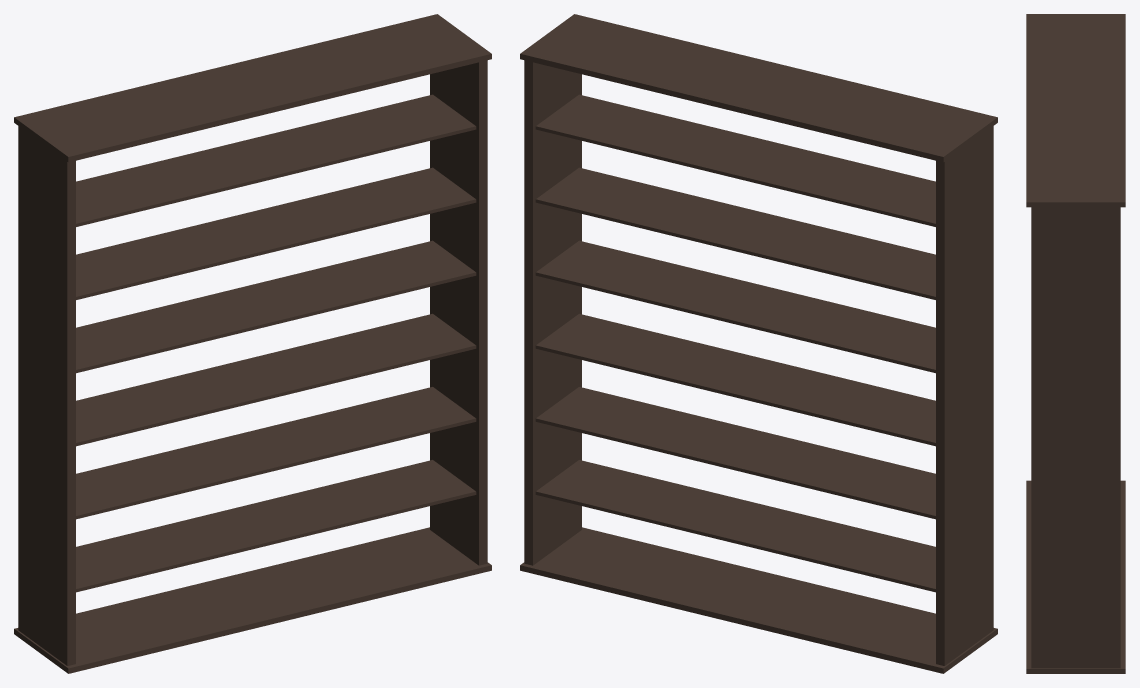
File: pk_bookcase_walnut.glb
3 renders of one model, left to right at view 1: azimuth 30°, elevation 25°; view 2: azimuth 150°, elevation 25°; view 3: azimuth 270°, elevation 25°, orthographic. The views are drawn at different scales.
Visible parts, largest first — view 1: pk_bookcase_walnut; view 2: pk_bookcase_walnut; view 3: pk_bookcase_walnut.
Part boxes in pixels (x1,y1,x2,y2): pk_bookcase_walnut: (14, 14, 491, 673); pk_bookcase_walnut: (520, 14, 997, 673); pk_bookcase_walnut: (1026, 14, 1125, 673).
Size of the model in its own units: 1.8 by 2.1 by 0.4.
Materials: 1 (1 with a texture image).
